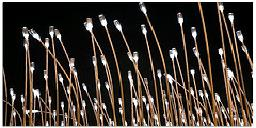LED: (46, 24, 60, 44), (82, 17, 96, 34), (111, 18, 124, 35), (174, 12, 186, 29), (136, 1, 149, 15), (139, 23, 149, 34), (190, 24, 196, 40)
